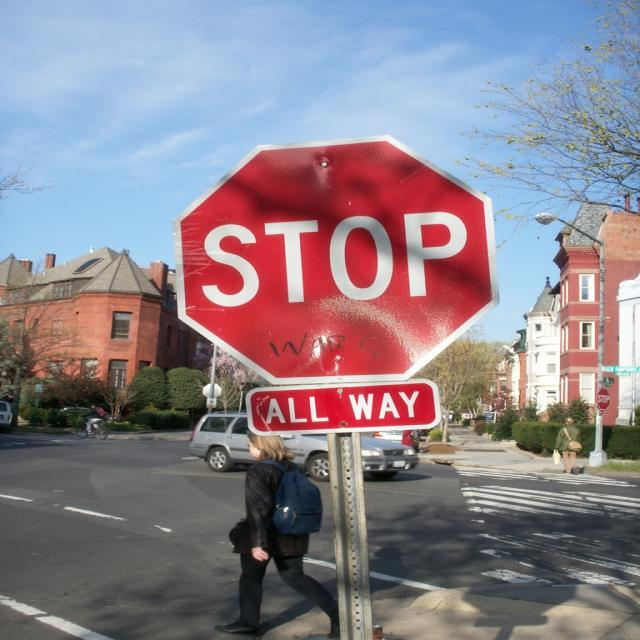Stop-sign: (170, 133, 503, 383)
